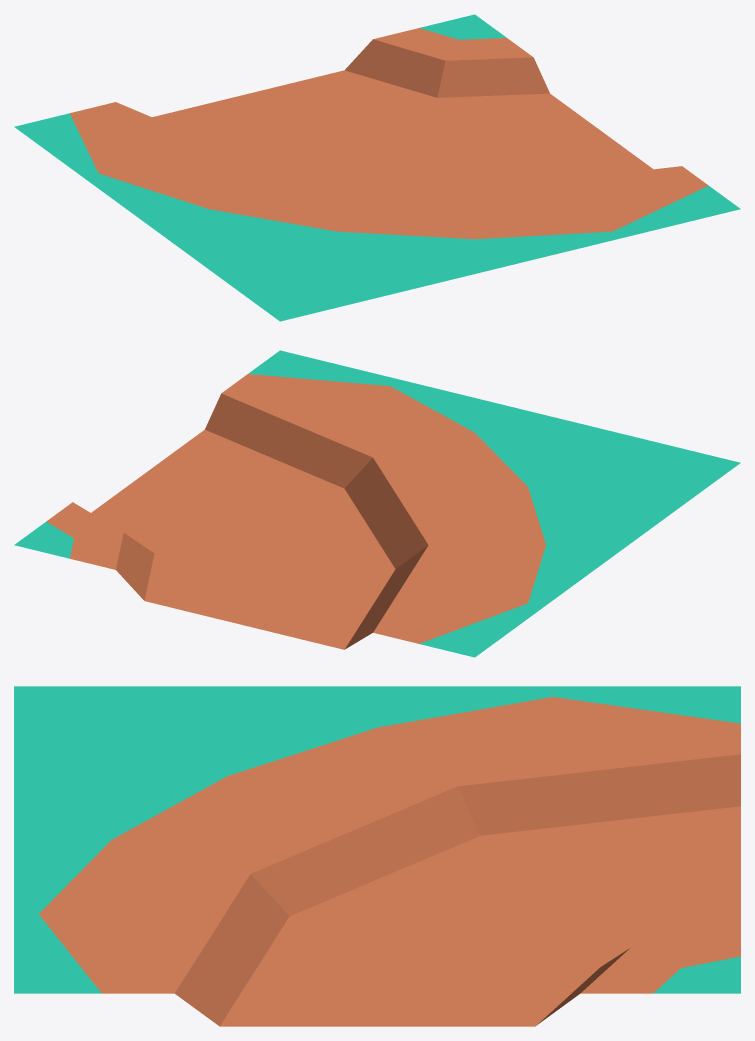
The model's file is ground_pathBendBank.dae.
3 renders of one model, top to bottom at view 1: azimuth 30°, elevation 25°; view 2: azimuth 150°, elevation 25°; view 3: azimuth 270°, elevation 25°, orthographic. The views are drawn at different scales.
Parts seen in each view (by area): view 1: ground_pathBendBank; view 2: ground_pathBendBank; view 3: ground_pathBendBank.
Boxes of the visible parts, left/top/right/bottom form: ground_pathBendBank: left=14, top=14, right=740, bottom=321; ground_pathBendBank: left=14, top=350, right=740, bottom=657; ground_pathBendBank: left=14, top=686, right=740, bottom=1026.
Size of the model in its own units: 1 by 0.05 by 1.
